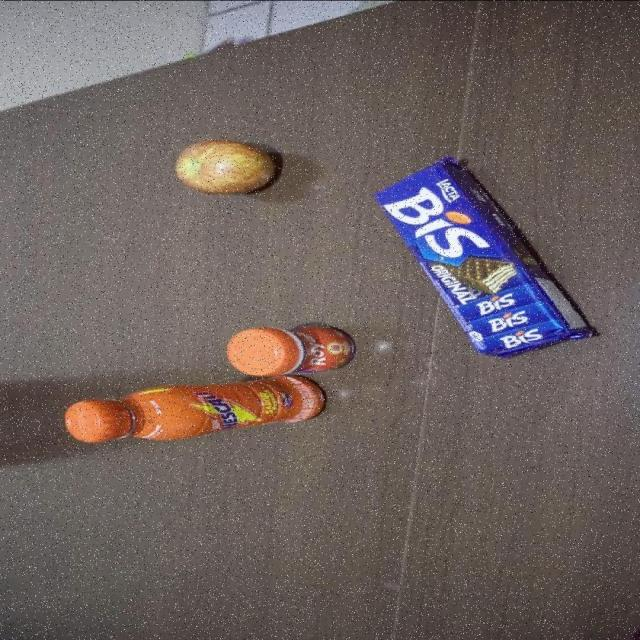Apple: (169, 137, 278, 197)
ChocolateMilk: (56, 376, 326, 442)
Yeast: (224, 324, 360, 374)
